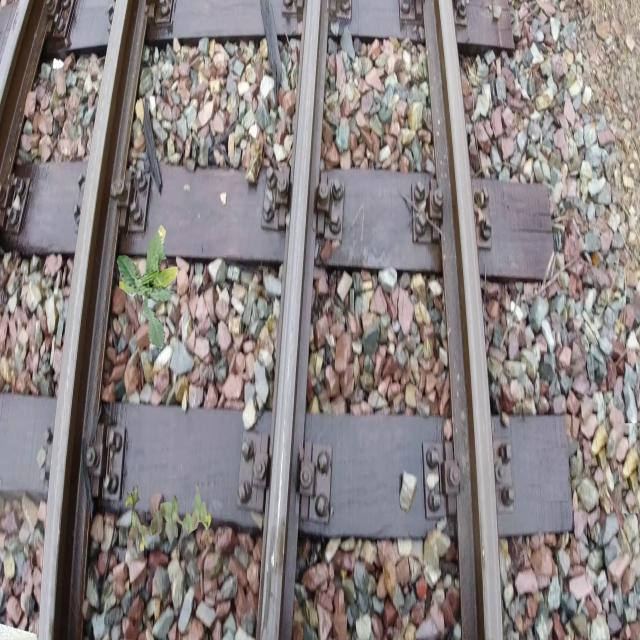Plant: (117, 225, 180, 350), (125, 484, 212, 552)
